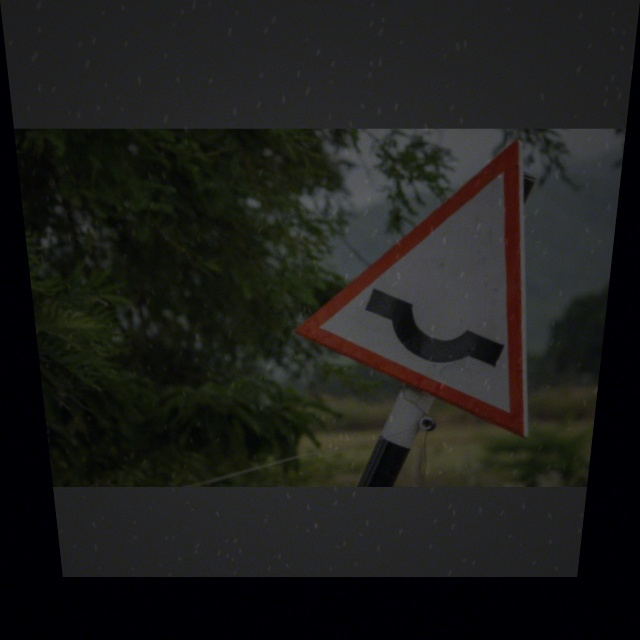Dangerous_Dip: (290, 143, 559, 423)
